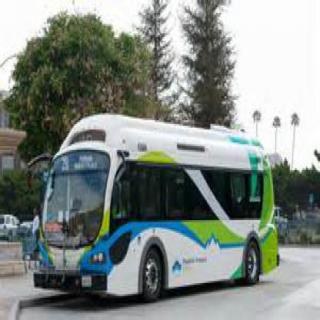Normal_vehicle: (26, 92, 296, 318)
